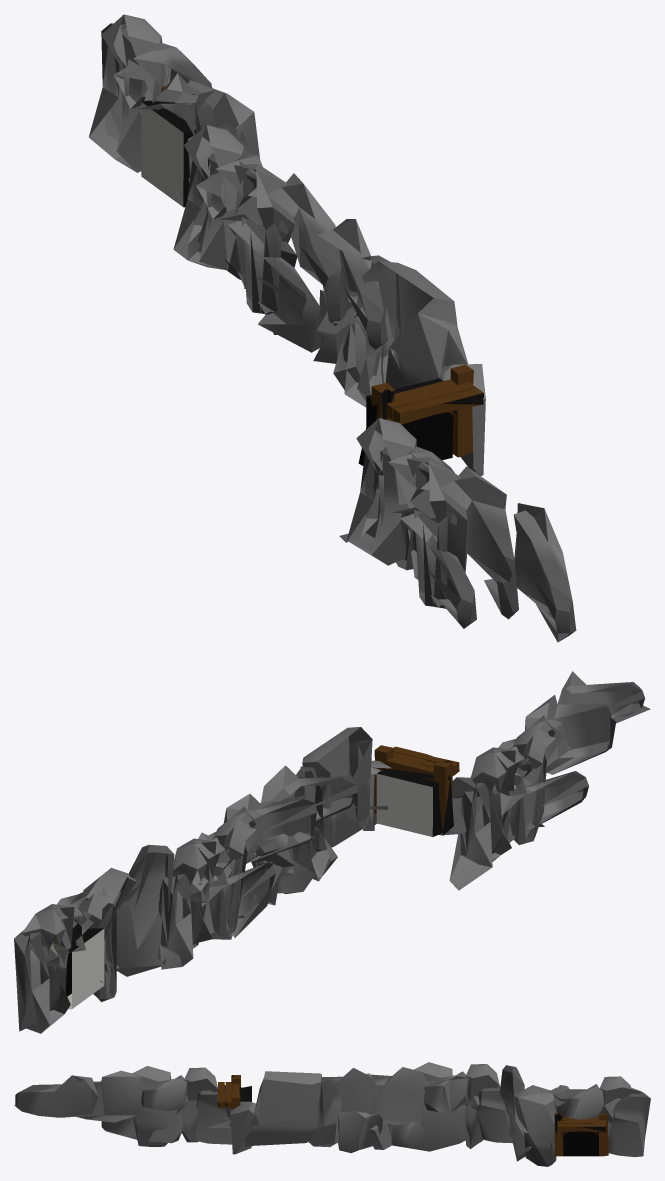
File: EntradaMina.glb
3 renders of one model, top to bottom at view 1: azimuth 30°, elevation 25°; view 2: azimuth 150°, elevation 25°; view 3: azimuth 270°, elevation 25°, orthographic. The views are drawn at different scales.
Parts seen in each view (by area): view 1: EntradaMina; view 2: EntradaMina; view 3: EntradaMina.
Part boxes in pixels (x1,y1,x2,y2): EntradaMina: (88, 14, 576, 642); EntradaMina: (14, 671, 650, 1033); EntradaMina: (14, 1062, 650, 1166).
Bounding box in the file's own units: 8.76 × 7.76 × 40.26.
Materials: 1 (1 with a texture image).
